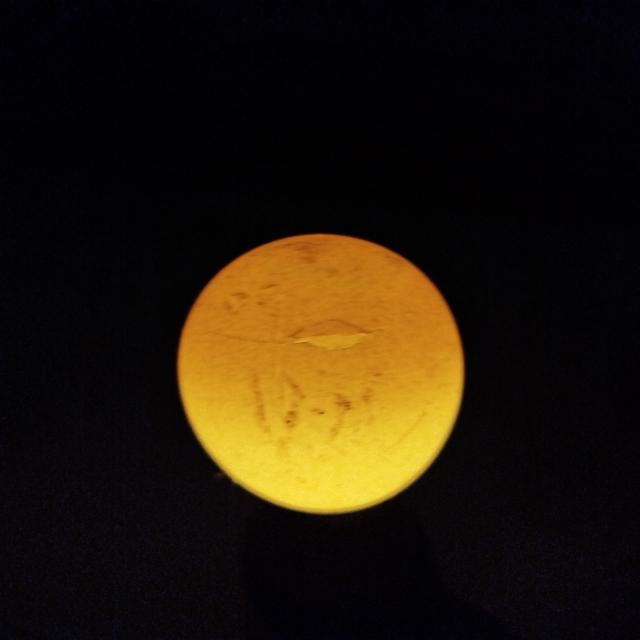Rachadura: (203, 319, 387, 349)
